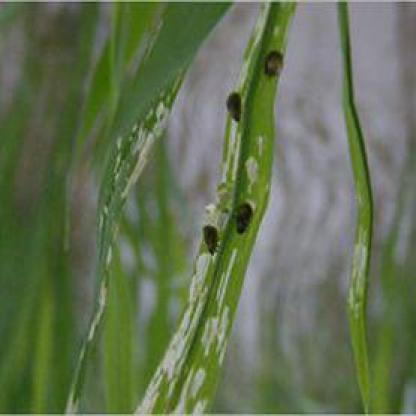rice-bug: (197, 223, 221, 259), (262, 44, 286, 79), (224, 88, 245, 124), (236, 200, 257, 235)
